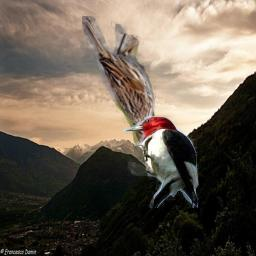Sparrow: (82, 16, 158, 146)
Woodpecker: (122, 116, 199, 208)
